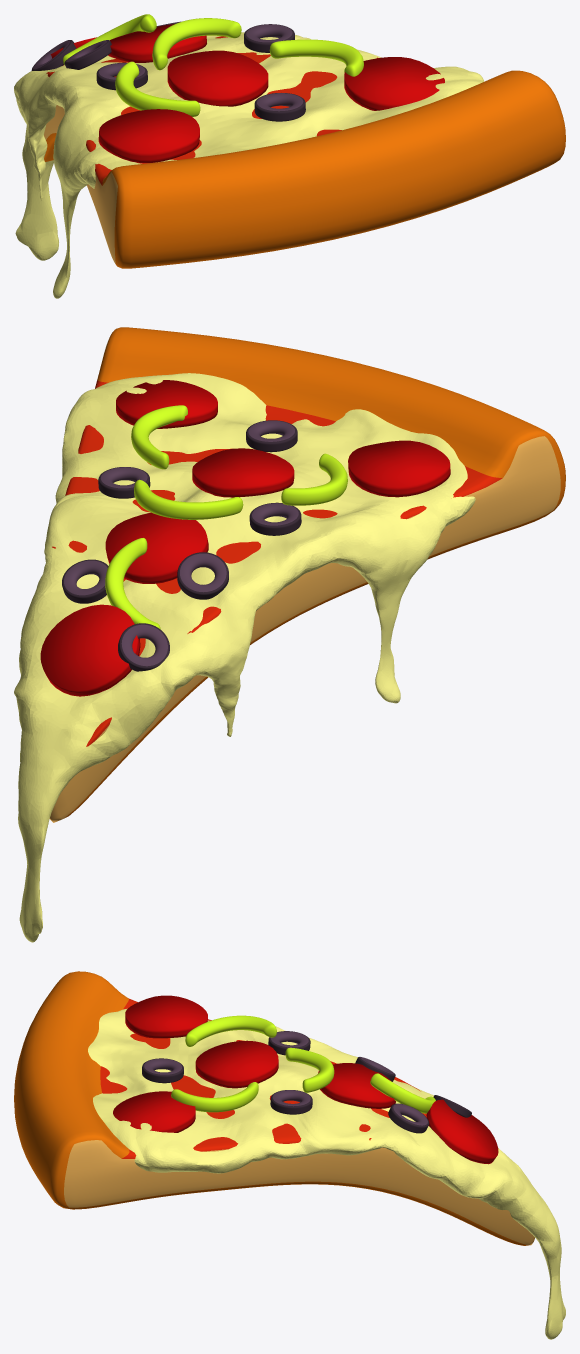
Rendered from slice pizza.glb.
3 views of the same model, one above another, from view 1: azimuth 30°, elevation 25°; view 2: azimuth 150°, elevation 25°; view 3: azimuth 270°, elevation 25° (orthographic). The views are drawn at different scales.
Visible parts, largest first — view 1: Cylinder_16, Plane_2, Cylinder.005_11, Cylinder.003_13, Cylinder.004_12, Cylinder.002_14, Cylinder.013_3, Cylinder.010_6, Cylinder.011_5, Cylinder.007_9, Cylinder.006_10, Cylinder.012_4 (+3 smaller); view 2: Plane_2, Cylinder_16, Cylinder.001_15, Cylinder.003_13, Cylinder.002_14, Cylinder.005_11, Cylinder.004_12, Cylinder.013_3, Cylinder.012_4, Cylinder.010_6, Cylinder.015_0, Cylinder.011_5 (+5 smaller); view 3: Cylinder_16, Plane_2, Cylinder.005_11, Cylinder.003_13, Cylinder.001_15, Cylinder.004_12, Cylinder.002_14, Cylinder.011_5, Cylinder.010_6, Cylinder.013_3, Cylinder.012_4, Cylinder.007_9 (+3 smaller).
Boxes of the visible parts, x1,y1,x2,y2 form: Cylinder_16: [44, 36, 565, 268]; Plane_2: [14, 32, 484, 298]; Cylinder.005_11: [167, 50, 268, 106]; Cylinder.003_13: [98, 109, 199, 162]; Cylinder.004_12: [344, 57, 444, 110]; Cylinder.002_14: [108, 24, 206, 62]; Cylinder.013_3: [152, 18, 241, 70]; Cylinder.010_6: [269, 39, 363, 76]; Cylinder.011_5: [115, 61, 200, 116]; Cylinder.007_9: [254, 93, 305, 121]; Cylinder.006_10: [244, 24, 294, 52]; Cylinder.012_4: [63, 14, 156, 64]; Plane_2: [14, 373, 475, 942]; Cylinder_16: [49, 327, 565, 822]; Cylinder.001_15: [40, 604, 140, 696]; Cylinder.003_13: [348, 440, 450, 497]; Cylinder.002_14: [105, 512, 208, 583]; Cylinder.005_11: [192, 448, 294, 497]; Cylinder.004_12: [116, 380, 217, 428]; Cylinder.013_3: [134, 479, 243, 519]; Cylinder.012_4: [105, 538, 160, 629]; Cylinder.010_6: [131, 405, 187, 469]; Cylinder.015_0: [177, 552, 228, 599]; Cylinder.011_5: [281, 453, 347, 505]; Cylinder_16: [14, 971, 534, 1245]; Plane_2: [88, 1008, 565, 1339]; Cylinder.005_11: [195, 1040, 278, 1088]; Cylinder.003_13: [125, 995, 207, 1038]; Cylinder.001_15: [426, 1099, 498, 1164]; Cylinder.004_12: [113, 1091, 195, 1132]; Cylinder.002_14: [318, 1063, 395, 1108]; Cylinder.011_5: [185, 1015, 276, 1046]; Cylinder.010_6: [171, 1082, 258, 1112]; Cylinder.013_3: [285, 1047, 334, 1092]; Cylinder.012_4: [370, 1073, 435, 1113]; Cylinder.007_9: [142, 1058, 183, 1083].
Bounding box in the file's own units: 0.7546 × 0.5595 × 0.9824.
Materials: 1 (1 with a texture image).
